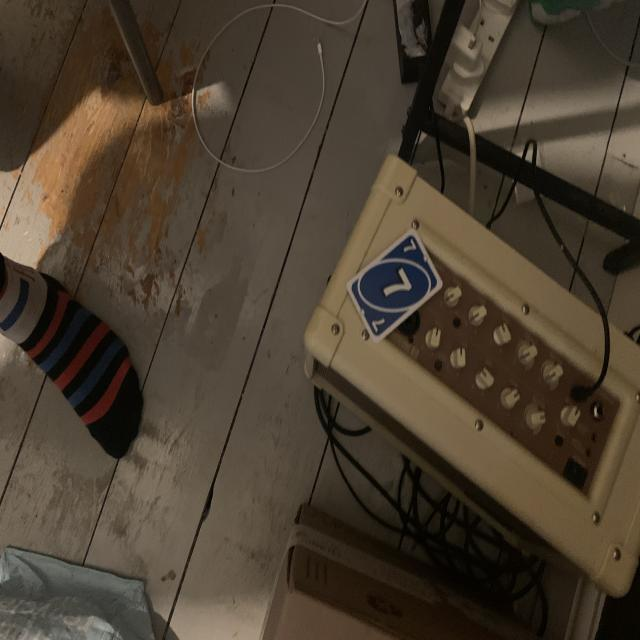lblue-7: (401, 237, 420, 258)
